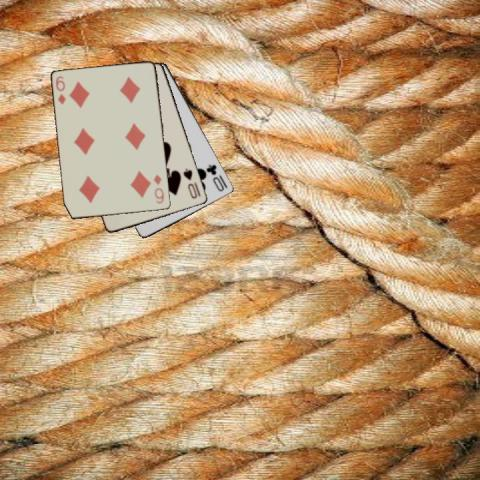10c: (204, 162, 230, 194)
10s: (180, 166, 198, 200)
6d: (151, 172, 165, 206), (53, 73, 67, 106)
